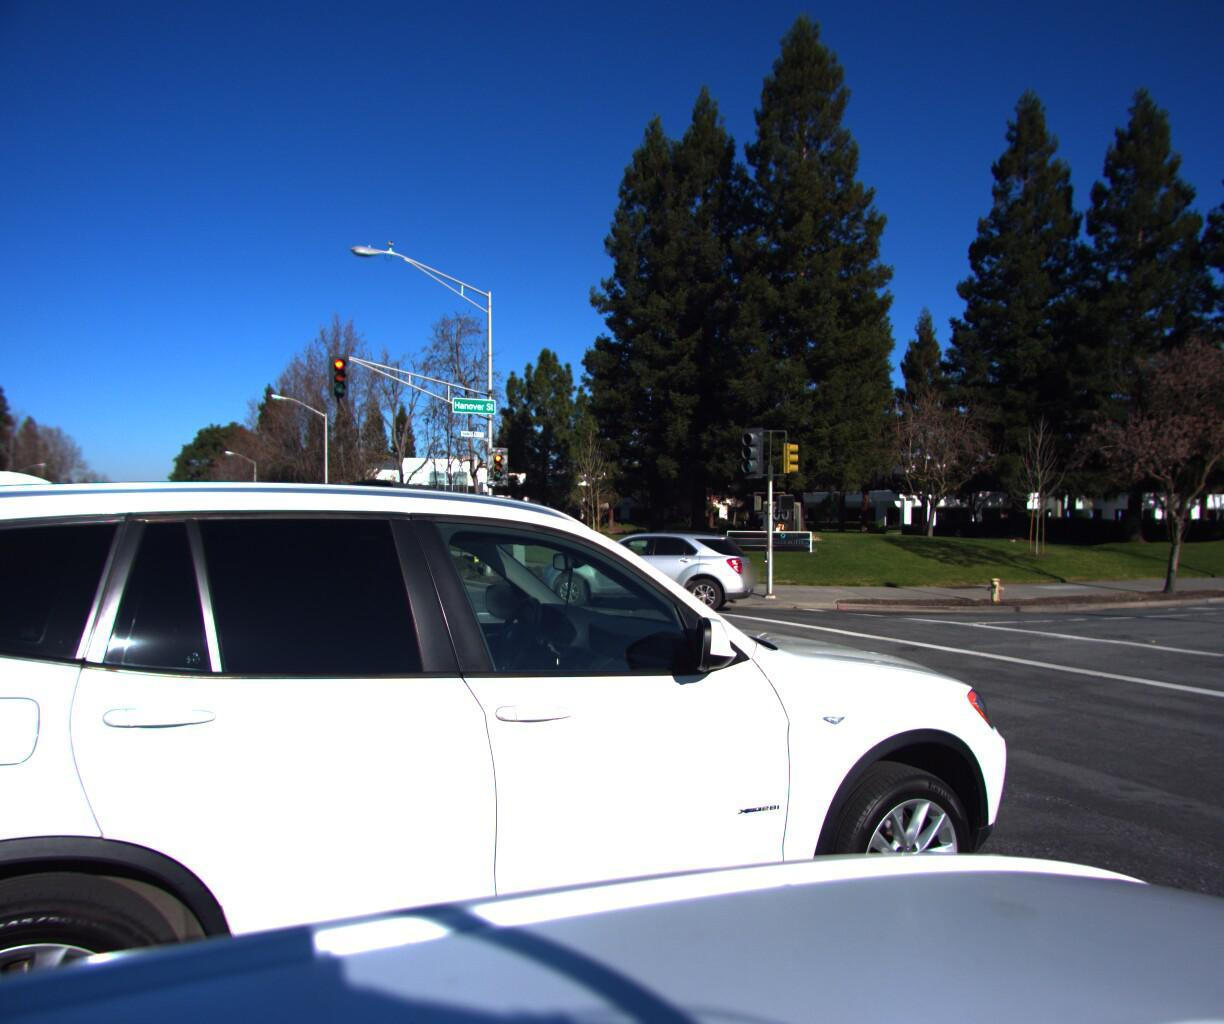car: (0, 500, 1093, 1024), (523, 526, 751, 609), (0, 514, 28, 547)
